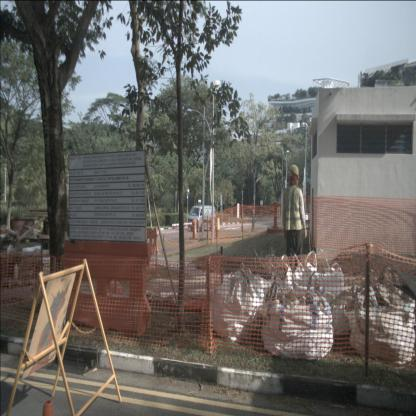barrier: (64, 240, 151, 336), (138, 228, 158, 256)
